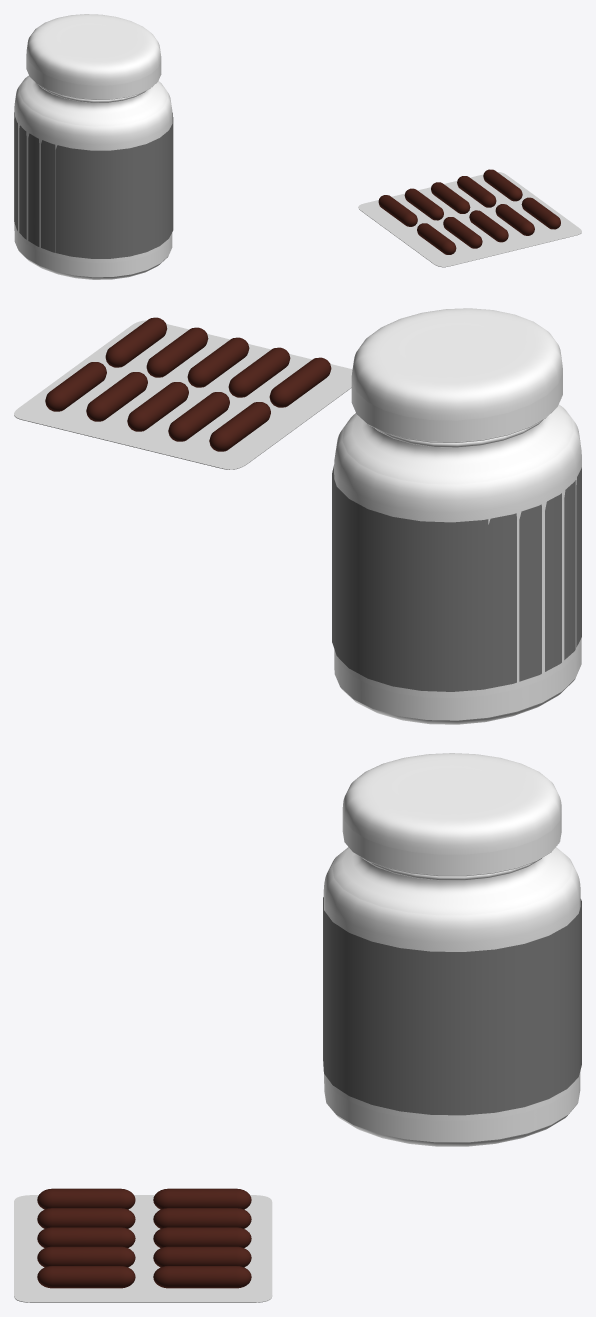
Rendered from 过期药品.FBX.
3 renders of one model, top to bottom at view 1: azimuth 30°, elevation 25°; view 2: azimuth 150°, elevation 25°; view 3: azimuth 270°, elevation 25°, orthographic. The views are drawn at different scales.
Visible parts, largest first — view 1: 标签, 药瓶2, 药瓶, 药片, Capsule009, Capsule006, Capsule010, Capsule011, Capsule007, Capsule008, Capsule004, Capsule003 (+2 smaller); view 2: 标签, 药瓶2, 药瓶, 药片, Capsule011, Capsule010, Capsule007, Capsule008, Capsule009, Capsule005, Capsule003, Capsule006 (+2 smaller); view 3: 标签, 药瓶2, 药瓶, 药片, Capsule006, Capsule011, Capsule002, Capsule009, Capsule007, Capsule008, Capsule004, Capsule003 (+2 smaller).
Part boxes in pixels (bbox=[...]): 标签: bbox=[14, 112, 173, 258]; 药瓶2: bbox=[14, 75, 172, 279]; 药瓶: bbox=[26, 14, 161, 99]; 药片: bbox=[358, 172, 581, 266]; Capsule009: bbox=[469, 210, 508, 242]; Capsule006: bbox=[483, 169, 522, 201]; Capsule010: bbox=[495, 204, 534, 235]; Capsule011: bbox=[521, 197, 560, 229]; Capsule007: bbox=[417, 223, 456, 254]; Capsule008: bbox=[443, 217, 482, 248]; Capsule004: bbox=[431, 182, 470, 213]; Capsule003: bbox=[404, 188, 443, 220]; 标签: bbox=[332, 466, 581, 691]; 药瓶2: bbox=[334, 404, 581, 724]; 药瓶: bbox=[351, 308, 562, 442]; 药片: bbox=[14, 320, 352, 469]; Capsule011: bbox=[105, 317, 167, 367]; Capsule010: bbox=[146, 327, 208, 377]; Capsule007: bbox=[269, 357, 331, 407]; Capsule008: bbox=[228, 347, 290, 397]; Capsule009: bbox=[187, 337, 249, 387]; Capsule005: bbox=[86, 372, 147, 421]; Capsule003: bbox=[168, 392, 229, 441]; Capsule006: bbox=[45, 362, 106, 411]; 标签: bbox=[323, 897, 581, 1115]; 药瓶2: bbox=[323, 847, 580, 1146]; 药瓶: bbox=[342, 753, 561, 876]; 药片: bbox=[14, 1195, 272, 1302]; Capsule006: bbox=[153, 1266, 251, 1288]; Capsule011: bbox=[37, 1266, 135, 1288]; Capsule002: bbox=[153, 1188, 251, 1209]; Capsule009: bbox=[37, 1227, 135, 1247]; Capsule007: bbox=[37, 1188, 135, 1209]; Capsule008: bbox=[37, 1208, 135, 1228]; Capsule004: bbox=[153, 1227, 251, 1247]; Capsule003: bbox=[153, 1208, 251, 1228].
Size of the model in its own units: 96.86 by 48.36 by 76.3.
